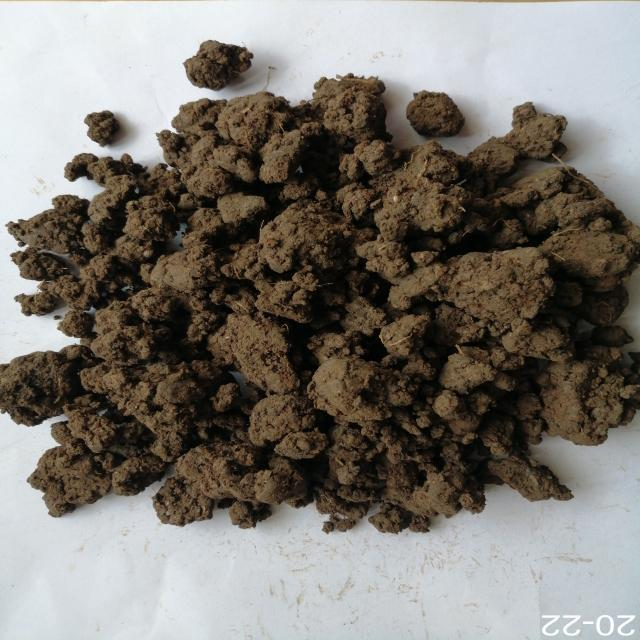soil: (97, 157, 527, 484)
